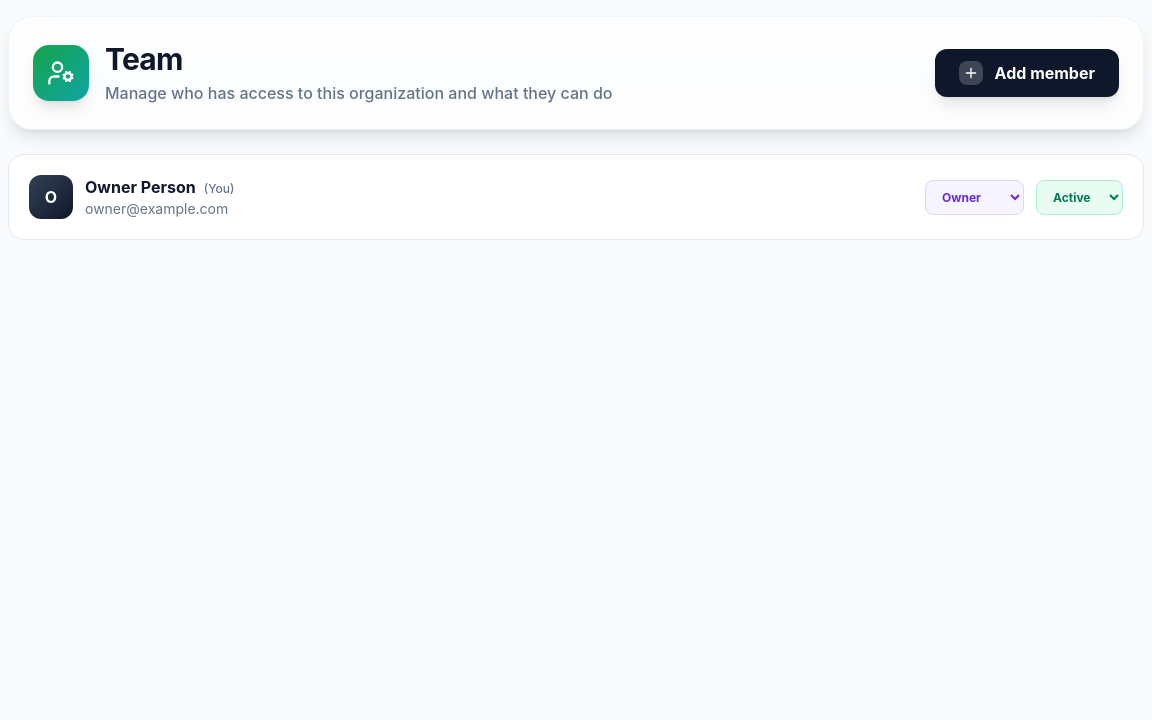
TeamManagement › adds a new member through the modal
Expected: the text "Owner Person" is shown, [85,177,196,197]
Click the button "Add member" at (1027, 73), box [935,49,1119,97]
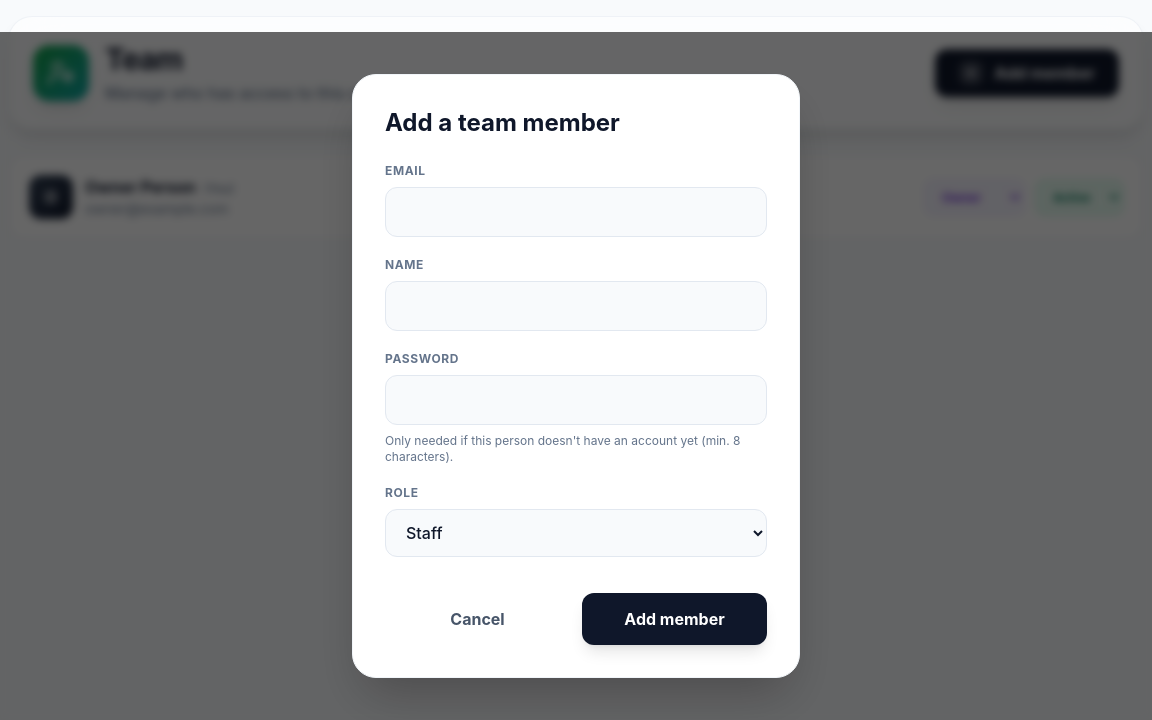
Type "staff@example.com" into the field labelled "Email" at (576, 212), box [385,187,767,237]
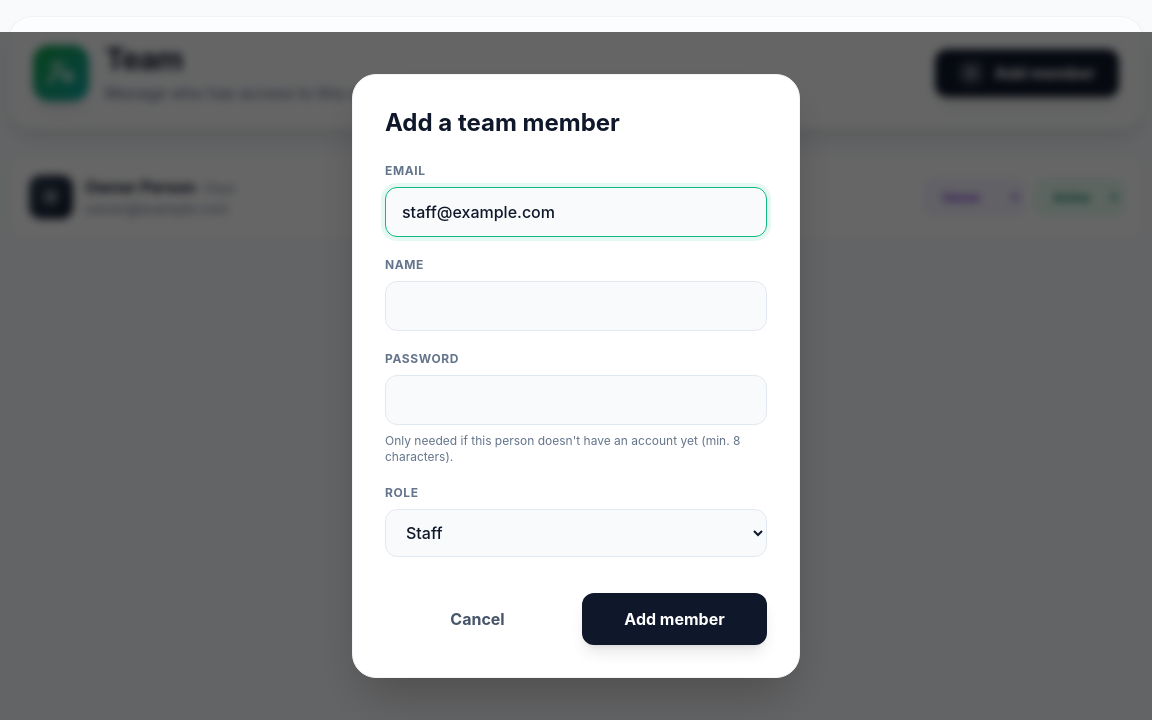
Type "Staff Person" into the field labelled "Name" at (576, 306), box [385,281,767,331]
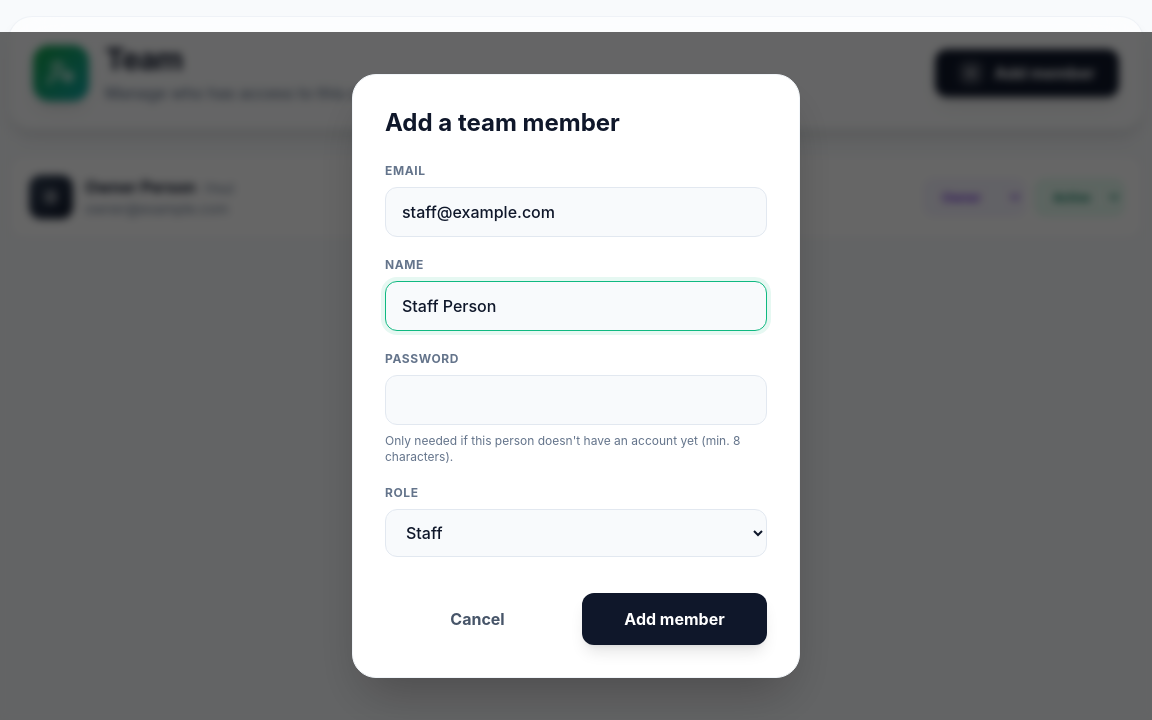
Click the button "Add member" at (674, 619), box [582,593,767,645]
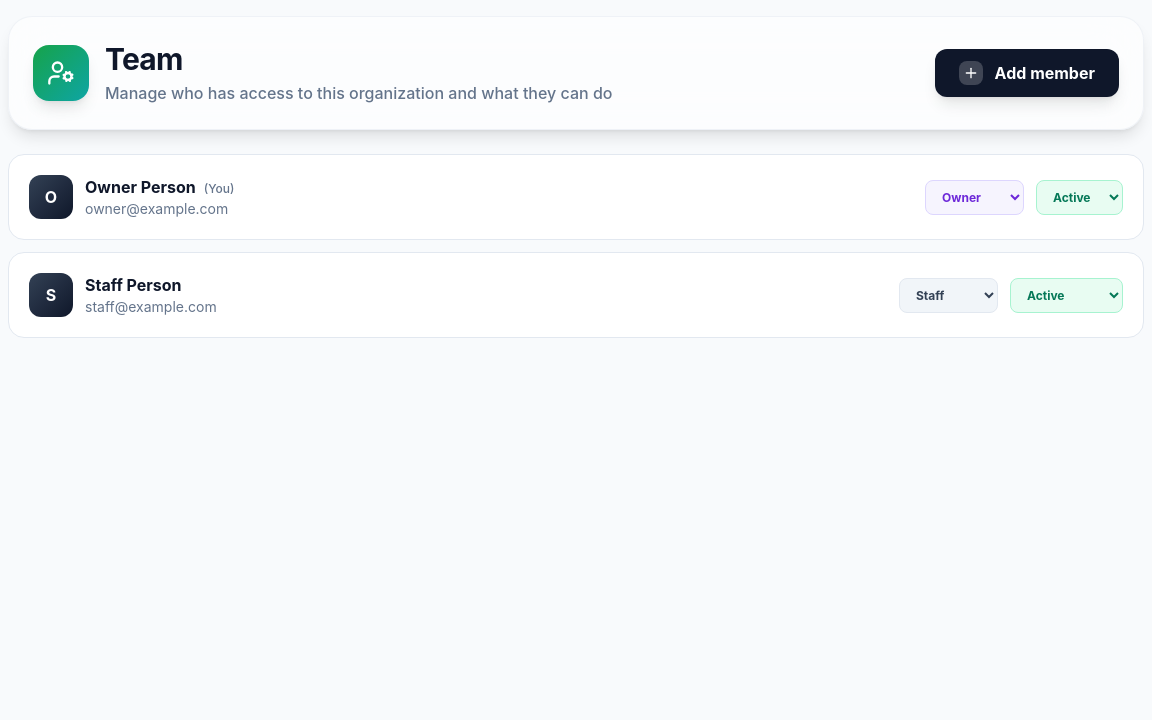
Now the text "Staff Person" is shown, box [85,275,182,295]
